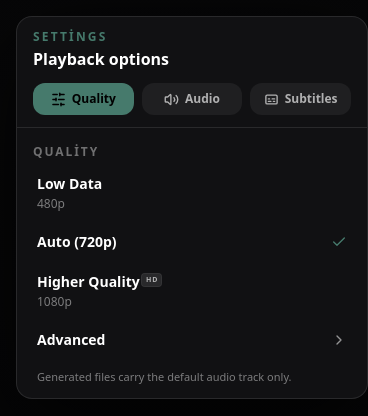
Test: PlayerSettingsPanel complete-file qualities › closes the Advanced submenu with Escape and restores focus
The image size is (368, 416).
Click the button "Advanced" at x=71, y=340, box [25,320,359,360]
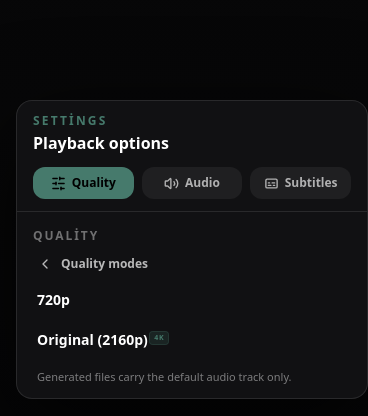
Expected: the text "Original (2160p)" is shown, [37,330,148,350]
Press Escape in the button "Quality modes", box [25,248,359,280]
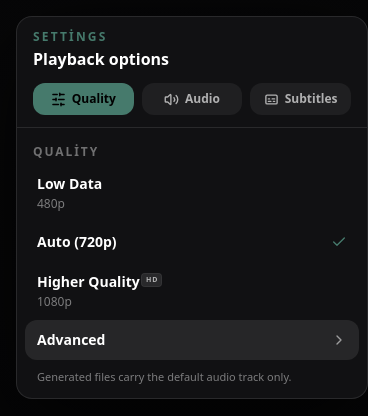
Expected: the button "Original (2160p)" is gone
